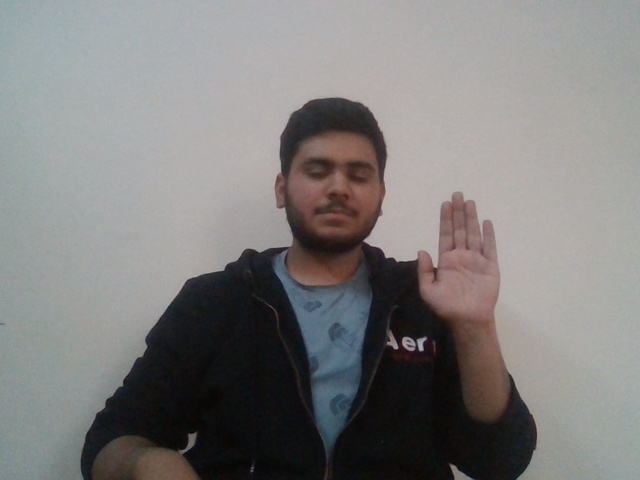Hello: (398, 195, 529, 318)
